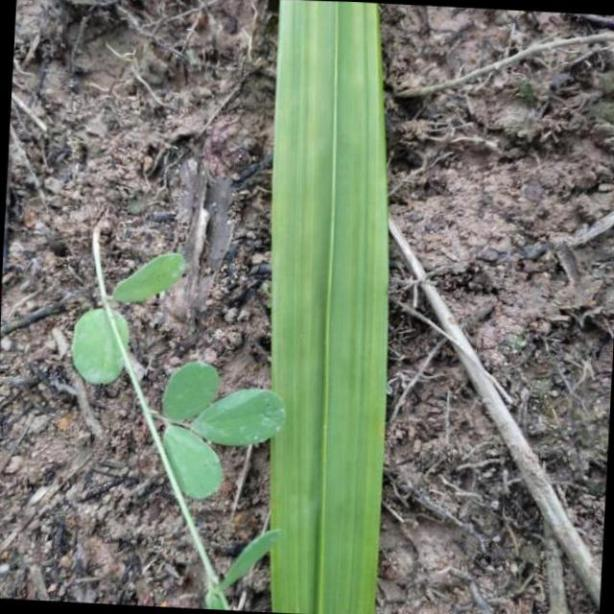nitrogen: (266, 0, 386, 614)
